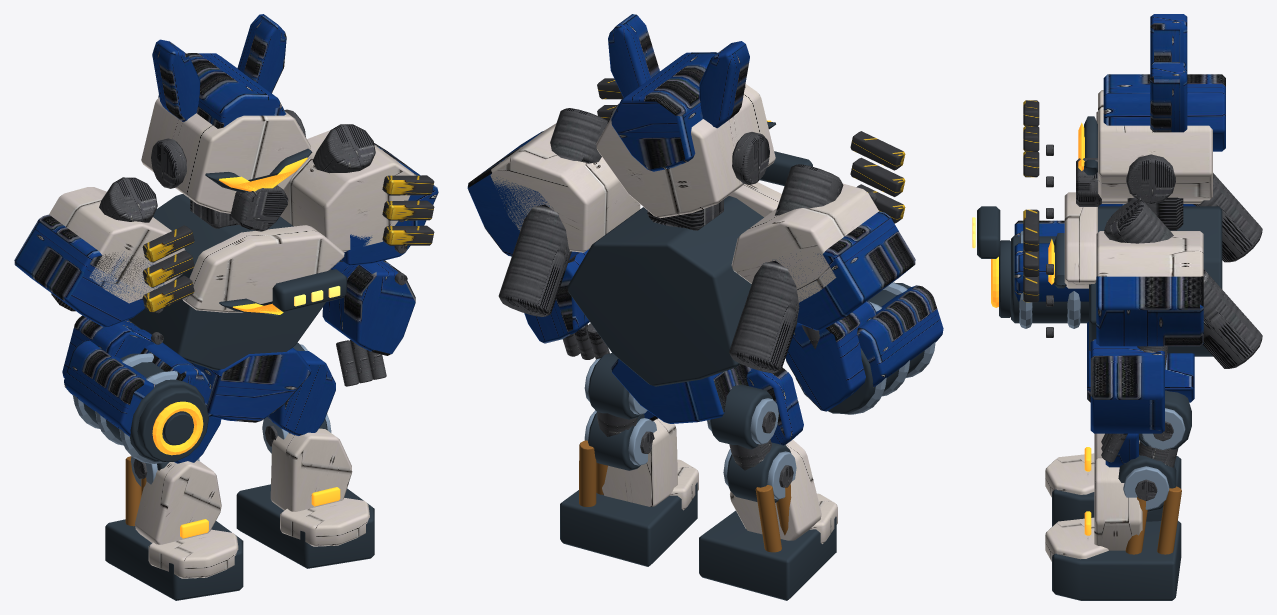
Rendered from sector_01_0.glb.
The picture shows the model from 3 angles, left to right: view 1: azimuth 30°, elevation 25°; view 2: azimuth 150°, elevation 25°; view 3: azimuth 270°, elevation 25°; orthographic projection. The views are drawn at different scales.
Visible parts, largest first — view 1: Navy crown, Cuirass yoke, Angular scout torso, Neck actuator, Greave armor, Greave armor.001, Warning gate, Servo housing.004, Servo housing.001, Tapered thigh shield.001, Recessed V optic, Bearing ring (+1 smaller); view 2: Navy crown, Cuirass yoke, Angular scout torso, Neck actuator, Servo housing.001, Servo housing.004, Greave armor.001, Greave armor, Warning gate, Tapered thigh shield, Bearing ring.002, Calf piston (+5 smaller); view 3: Navy crown, Cuirass yoke, Neck actuator, Servo housing.004, Angular scout torso, Greave armor.001, Warning gate, Greave armor, Bearing ring.008, Calf piston.002, Servo housing.001, Hub.008 (+3 smaller).
Boxes of the visible parts, x1,y1,x2,y2 form: Navy crown: (14, 14, 438, 436); Cuirass yoke: (49, 97, 416, 312); Angular scout torso: (72, 148, 346, 462); Neck actuator: (51, 109, 407, 386); Greave armor: (135, 460, 238, 578); Greave armor.001: (270, 428, 369, 546); Warning gate: (142, 175, 434, 312); Servo housing.004: (236, 342, 374, 568); Servo housing.001: (105, 462, 243, 600); Tapered thigh shield.001: (267, 350, 335, 435); Recessed V optic: (152, 157, 307, 455); Bearing ring: (73, 353, 177, 463); Navy crown: (467, 14, 943, 423); Cuirass yoke: (490, 84, 878, 302); Angular scout torso: (567, 121, 924, 413); Neck actuator: (498, 104, 876, 373); Servo housing.001: (699, 384, 836, 600); Servo housing.004: (560, 353, 697, 566); Greave armor.001: (602, 418, 698, 510); Greave armor: (730, 439, 837, 543); Warning gate: (597, 78, 905, 223); Tapered thigh shield: (746, 367, 803, 445); Bearing ring.002: (707, 398, 796, 499); Calf piston: (755, 484, 791, 552); Navy crown: (1014, 14, 1225, 433); Cuirass yoke: (1064, 90, 1212, 288); Neck actuator: (1046, 144, 1262, 462); Servo housing.004: (1052, 390, 1191, 600); Angular scout torso: (977, 116, 1222, 356); Greave armor.001: (1045, 457, 1142, 561); Warning gate: (1023, 100, 1039, 302); Greave armor: (1045, 433, 1139, 497); Bearing ring.008: (1123, 408, 1185, 509); Calf piston.002: (1125, 486, 1181, 554); Servo housing.001: (1052, 456, 1181, 526); Hub.008: (1135, 421, 1178, 500).
Bounding box in the file's own units: 1.17 × 1.52 × 0.7835.
Materials: 9 (4 with a texture image).
